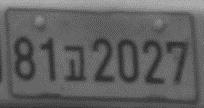0: (115, 38, 140, 83)
1: (38, 35, 58, 82)
2: (141, 38, 166, 86), (90, 38, 116, 83)
7: (164, 39, 189, 85)
8: (12, 34, 36, 81)
고: (63, 44, 88, 83)
